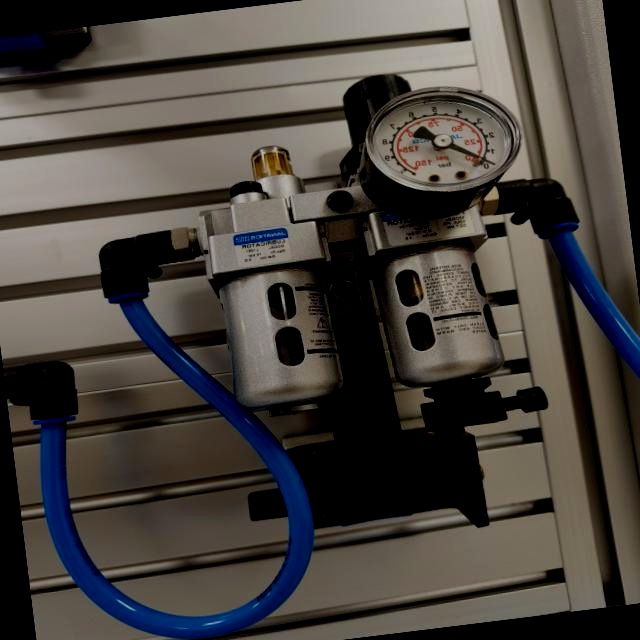FRL unit: (102, 46, 612, 573)
push button: (348, 74, 532, 226)
